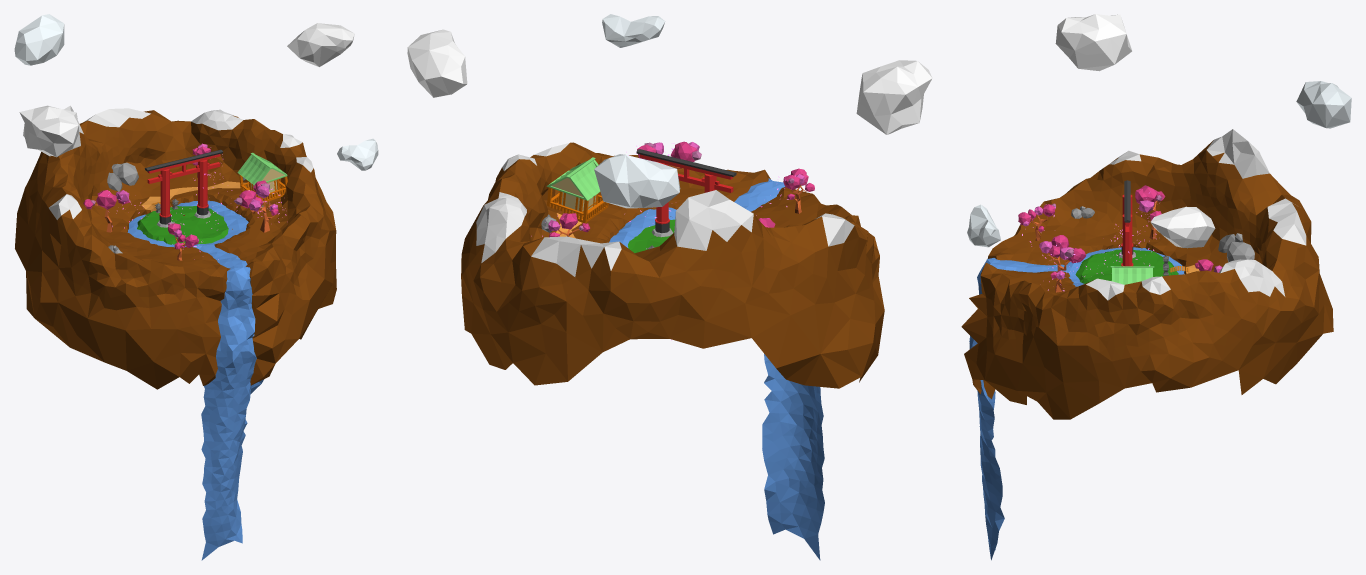
The picture shows the model from 3 angles, left to right: view 1: azimuth 30°, elevation 25°; view 2: azimuth 150°, elevation 25°; view 3: azimuth 270°, elevation 25°; orthographic projection. The views are drawn at different scales.
Parts seen in each view (by area): view 1: Isla, Agua, Icosphere.001, Torii, Icosphere, Icosphere.002, Hojas, Casa, Icosphere.003, Roca; view 2: Isla, Agua, Icosphere.001, Icosphere, Icosphere.002, Torii, Hojas, Icosphere.003, Casa, Cube.001; view 3: Isla, Agua, Icosphere.001, Hojas, Icosphere, Icosphere.002, Icosphere.003, Torii, Roca, Casa.
Boxes of the visible parts, <box> form: Isla: <box>15,105,336,389</box>; Agua: <box>127,200,263,560</box>; Icosphere.001: <box>19,105,80,157</box>; Torii: <box>144,149,222,227</box>; Icosphere: <box>14,14,64,65</box>; Icosphere.002: <box>287,23,354,66</box>; Hojas: <box>83,143,278,249</box>; Casa: <box>237,152,287,185</box>; Icosphere.003: <box>337,138,378,170</box>; Roca: <box>107,162,138,191</box>; Isla: <box>461,142,884,388</box>; Agua: <box>609,178,824,560</box>; Icosphere.001: <box>856,60,932,134</box>; Icosphere: <box>594,154,680,208</box>; Icosphere.002: <box>407,29,467,97</box>; Torii: <box>636,149,736,237</box>; Hojas: <box>548,141,814,237</box>; Icosphere.003: <box>602,14,665,47</box>; Casa: <box>546,157,600,200</box>; Cube.001: <box>547,187,608,223</box>; Isla: <box>961,129,1333,419</box>; Agua: <box>969,247,1184,560</box>; Icosphere.001: <box>1055,14,1131,71</box>; Hojas: <box>1018,185,1222,279</box>; Icosphere: <box>1296,81,1351,128</box>; Icosphere.002: <box>1150,206,1215,248</box>; Icosphere.003: <box>967,204,1000,247</box>; Torii: <box>1118,180,1135,266</box>; Roca: <box>1218,233,1254,262</box>; Casa: <box>1110,266,1154,284</box>.
Size of the model in its own units: 42.19 by 49.94 by 36.76.
